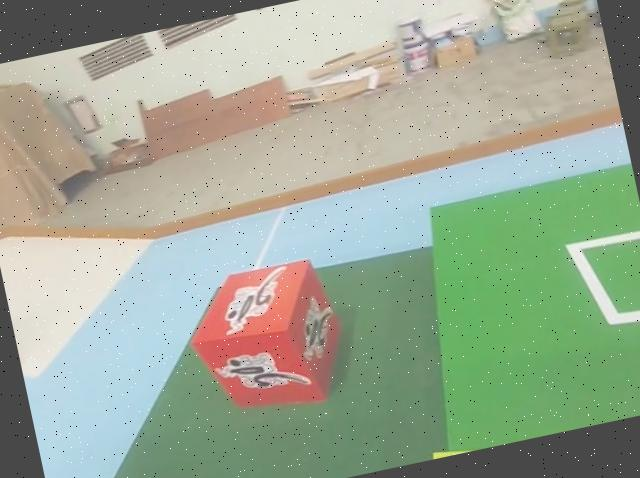R1: (174, 250, 361, 428)
